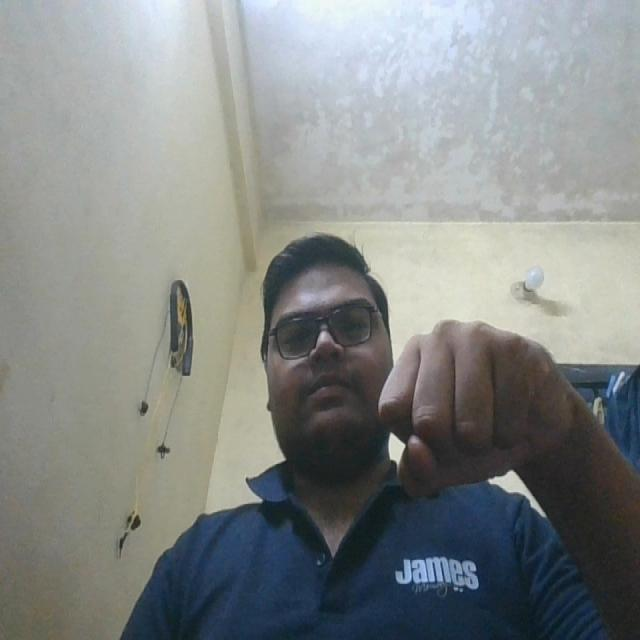Yes: (379, 309, 576, 512)
